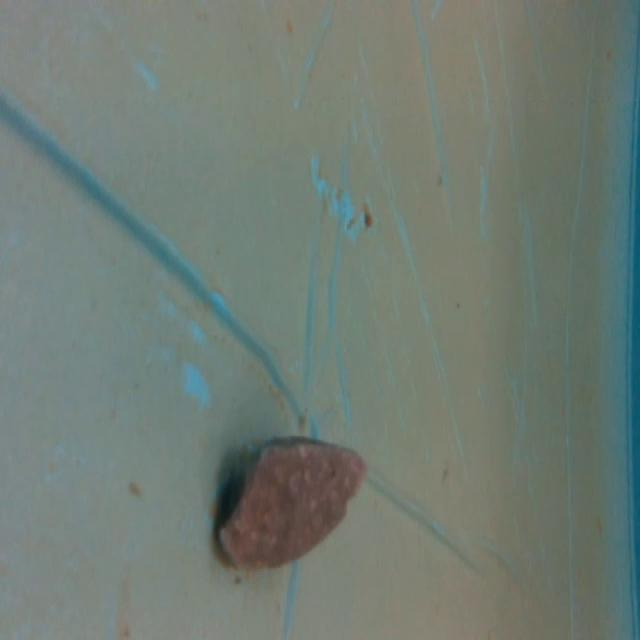rock: (207, 428, 370, 576)
